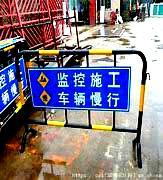sign: (30, 68, 129, 109)
